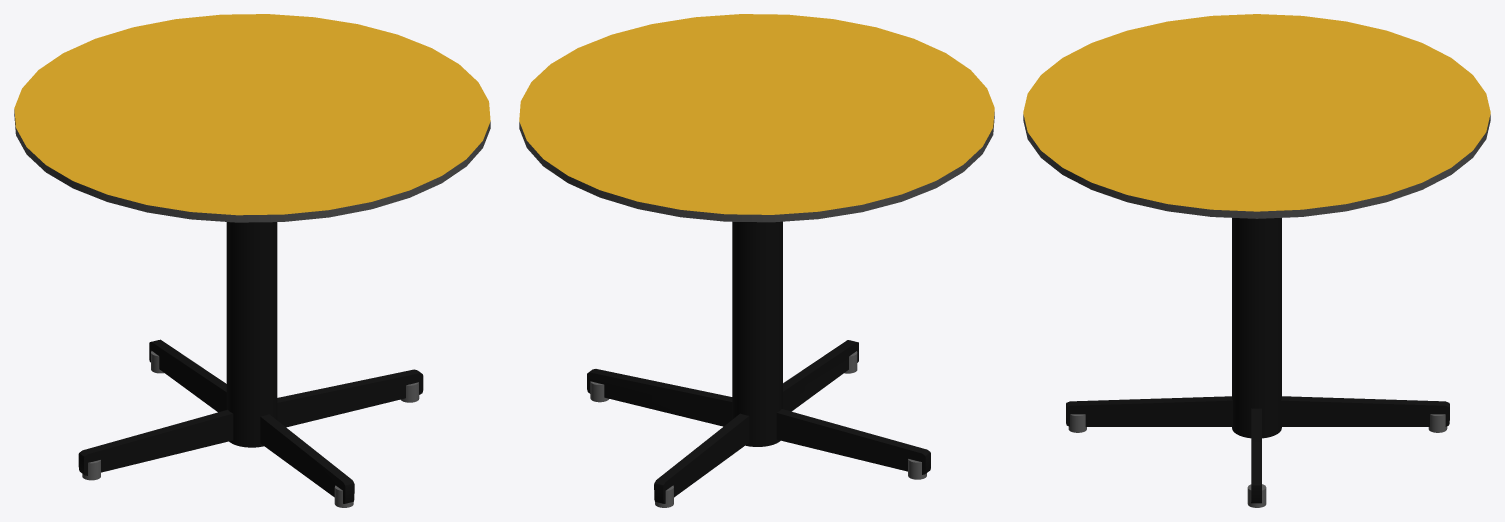
Rendered from table.glb.
3 views of the same model, side by side, from view 1: azimuth 30°, elevation 25°; view 2: azimuth 150°, elevation 25°; view 3: azimuth 270°, elevation 25° (orthographic). The views are drawn at different scales.
Visible parts, largest first — view 1: Circle_9, leg_0, leg1_3, leg4_1, leg3_7, leg2_5; view 2: Circle_9, leg_0, leg1_3, leg4_1, leg2_5, leg3_7; view 3: Circle_9, leg_0, leg2_5, leg3_7, leg4_1.
Boxes of the visible parts, <box> form: Circle_9: <box>14,14,490,222</box>; leg_0: <box>226,222,277,447</box>; leg1_3: <box>78,409,233,475</box>; leg4_1: <box>277,369,423,427</box>; leg3_7: <box>260,414,354,503</box>; leg2_5: <box>149,339,226,412</box>; Circle_9: <box>519,14,994,222</box>; leg_0: <box>732,221,782,446</box>; leg1_3: <box>776,409,930,474</box>; leg4_1: <box>587,369,732,426</box>; leg2_5: <box>654,413,749,503</box>; leg3_7: <box>783,340,858,411</box>; Circle_9: <box>1023,14,1490,218</box>; leg_0: <box>1232,218,1281,438</box>; leg2_5: <box>1281,396,1449,426</box>; leg3_7: <box>1066,396,1232,426</box>; leg4_1: <box>1251,408,1261,503</box>.
Bounding box in the file's own units: 2 × 1.49 × 2.
